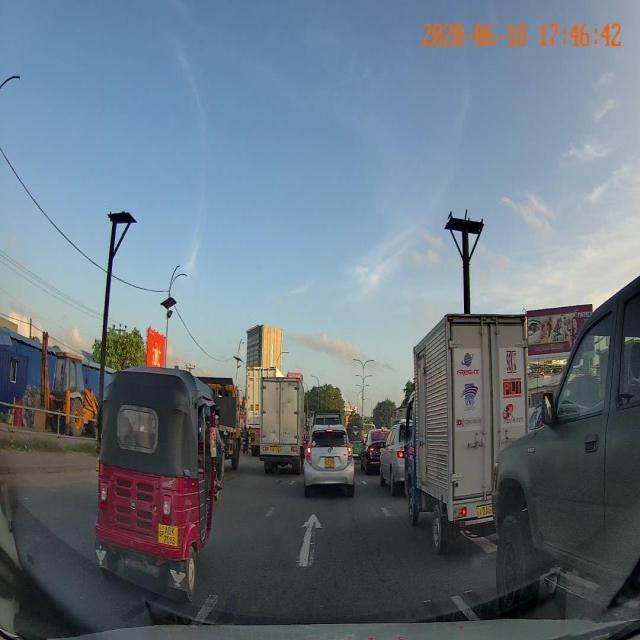Liniya 1: (446, 592, 481, 623), (192, 592, 219, 626), (379, 502, 392, 525), (263, 503, 278, 521), (360, 480, 369, 490)
Strelka vpered: (293, 509, 324, 571)
